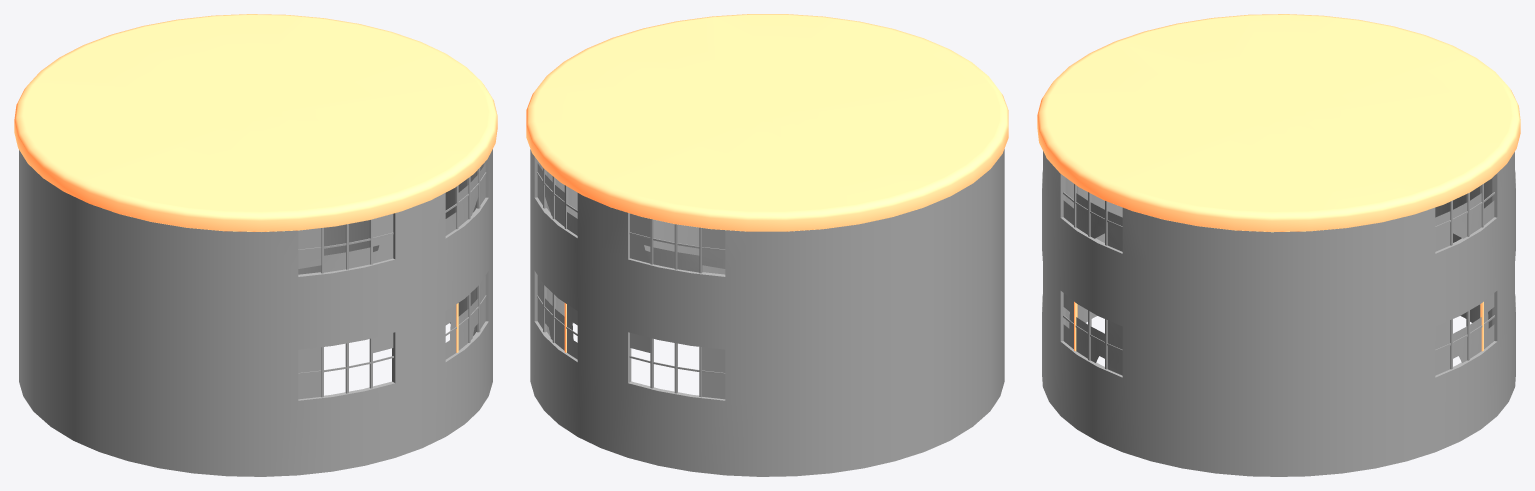
Rendered from SM_MainBuilding4.fbx.
3 views of the same model, side by side, from view 1: azimuth 30°, elevation 25°; view 2: azimuth 150°, elevation 25°; view 3: azimuth 270°, elevation 25° (orthographic).
Visible parts, largest first — view 1: SM_MainBuilding4_LOD0; view 2: SM_MainBuilding4_LOD0; view 3: SM_MainBuilding4_LOD0.
Part boxes in pixels (x1=…): SM_MainBuilding4_LOD0: x1=14, y1=14, x2=497, y2=476; SM_MainBuilding4_LOD0: x1=526, y1=14, x2=1008, y2=476; SM_MainBuilding4_LOD0: x1=1037, y1=14, x2=1520, y2=476.
Bounding box in the file's own units: 906 × 906 × 544.
